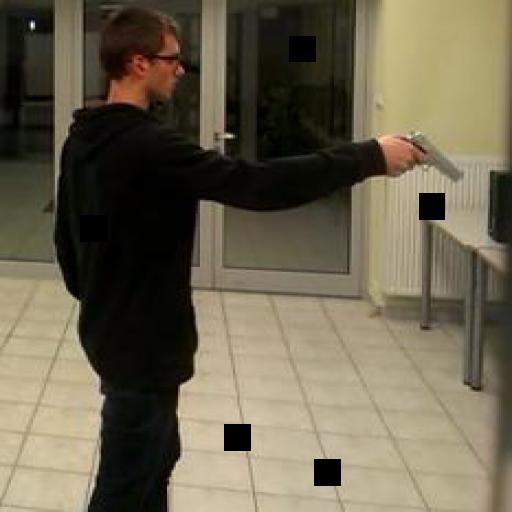Handgun: (385, 127, 459, 182)
